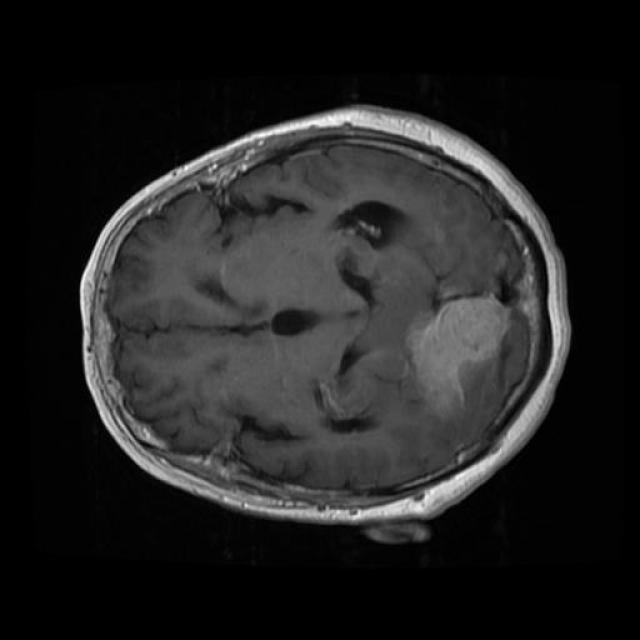Meningioma: (407, 296, 509, 419)
